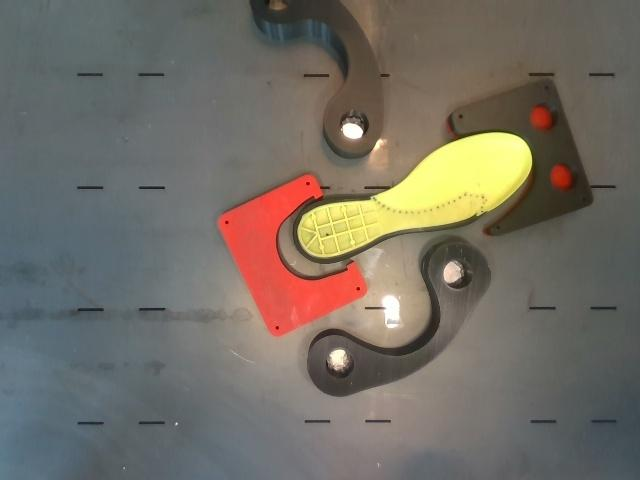shoes: (293, 133, 532, 263)
